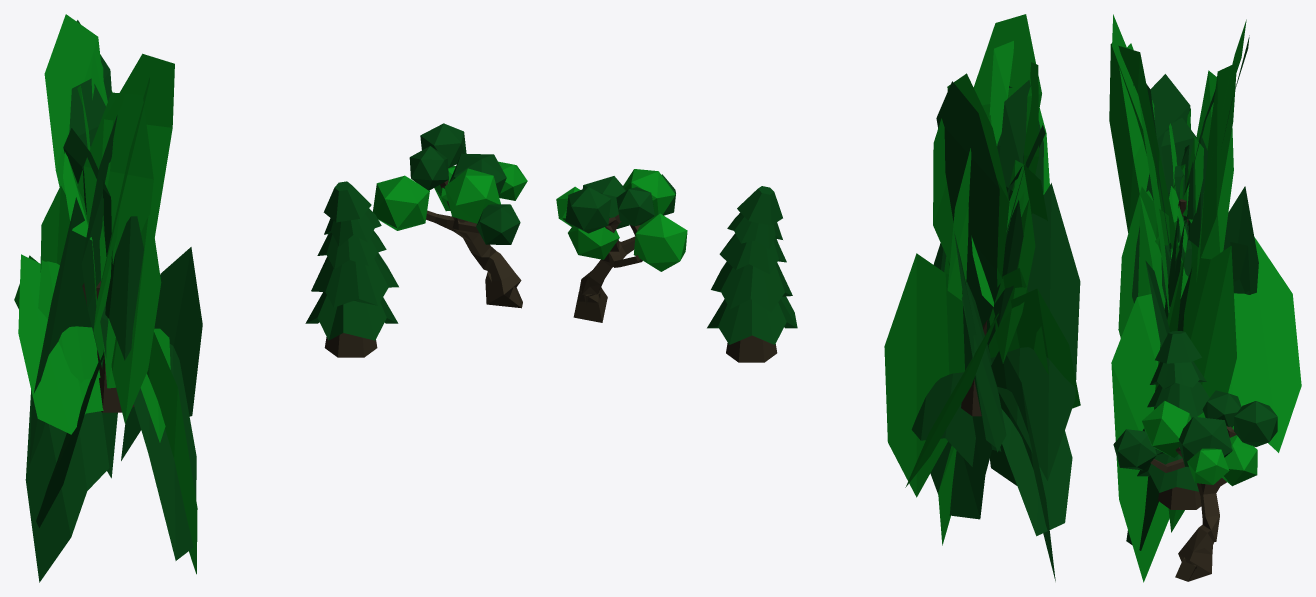
File: TreeSkin.fbx
3 views of the same model, side by side, from view 1: azimuth 30°, elevation 25°; view 2: azimuth 150°, elevation 25°; view 3: azimuth 270°, elevation 25° (orthographic). The views are drawn at different scales.
Parts seen in each view (by area): view 1: Cylinder, Plane.002, Plane.010, Plane.003, Plane, Plane.007, Plane.013, Plane.008, Plane.024, Plane.014, Plane.012, Plane.028 (+19 smaller); view 2: Plane.004, Plane.014, Cylinder, Plane.009, Plane.006, Plane.010, Plane.007, Plane, Plane.002, Cube, Plane.008, Plane.011 (+20 smaller); view 3: Plane.005, Plane.012, Plane.004, Plane.015, Cylinder, Plane.017, Plane.024, Cube, Plane.025, Plane.003, Plane.001, Plane.007 (+23 smaller).
Part boxes in pixels (x1,y1,x2,y2): Cylinder: (305,181,398,340); Plane.002: (25,390,109,582); Plane.010: (18,254,103,434); Plane.003: (83,92,153,253); Plane: (121,247,202,460); Plane.007: (99,53,174,280); Plane.013: (44,14,105,352); Plane.008: (133,344,196,560); Plane.024: (111,211,161,423); Plane.014: (29,197,91,464); Plane.012: (147,332,197,574); Plane.028: (105,216,143,360); Plane.004: (884,253,964,497); Plane.014: (990,183,1080,480); Cylinder: (707,186,797,344); Plane.009: (936,81,999,351); Plane.006: (1001,408,1072,536); Plane.010: (988,288,1080,408); Plane.007: (973,14,1041,133); Plane: (911,243,975,466); Plane.002: (990,351,1055,581); Cube: (573,214,642,322); Plane.008: (930,439,985,519); Plane.011: (999,80,1043,192); Plane.005: (1228,237,1301,452); Plane.012: (1111,294,1169,582); Plane.004: (1168,246,1236,532); Plane.015: (1109,43,1181,270); Cylinder: (1137,331,1209,492); Plane.017: (1196,63,1236,281); Plane.024: (1118,186,1176,338); Cube: (1150,426,1236,581); Plane.025: (1190,70,1233,263); Plane.003: (1119,43,1165,309); Plane.001: (1223,186,1258,294); Plane.007: (1112,14,1170,314).
Size of the model in its own units: 2243 by 2305 by 750.
